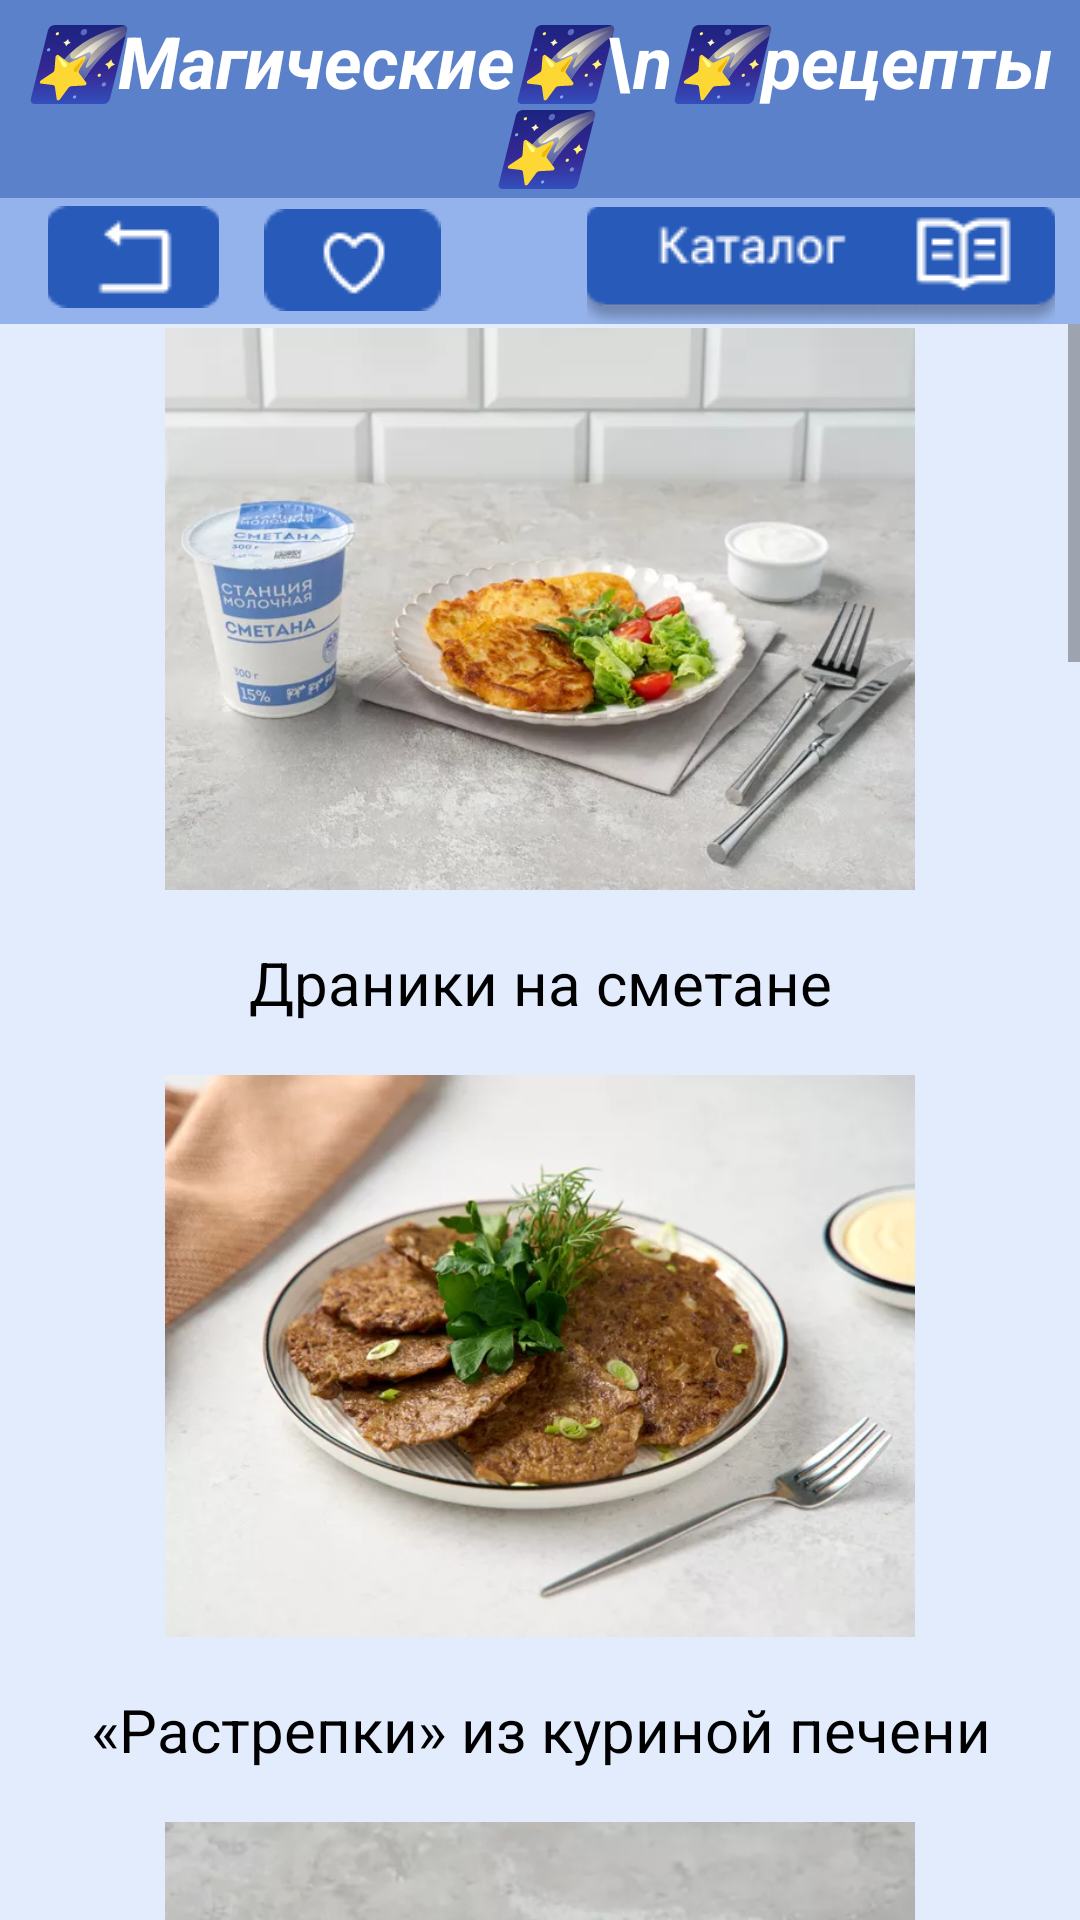

Named icons in this screenshot (1080 x 1920) and their bounding boxes, (x1, y1, x2, y2):
favouritebutton: (264, 209, 441, 311)
